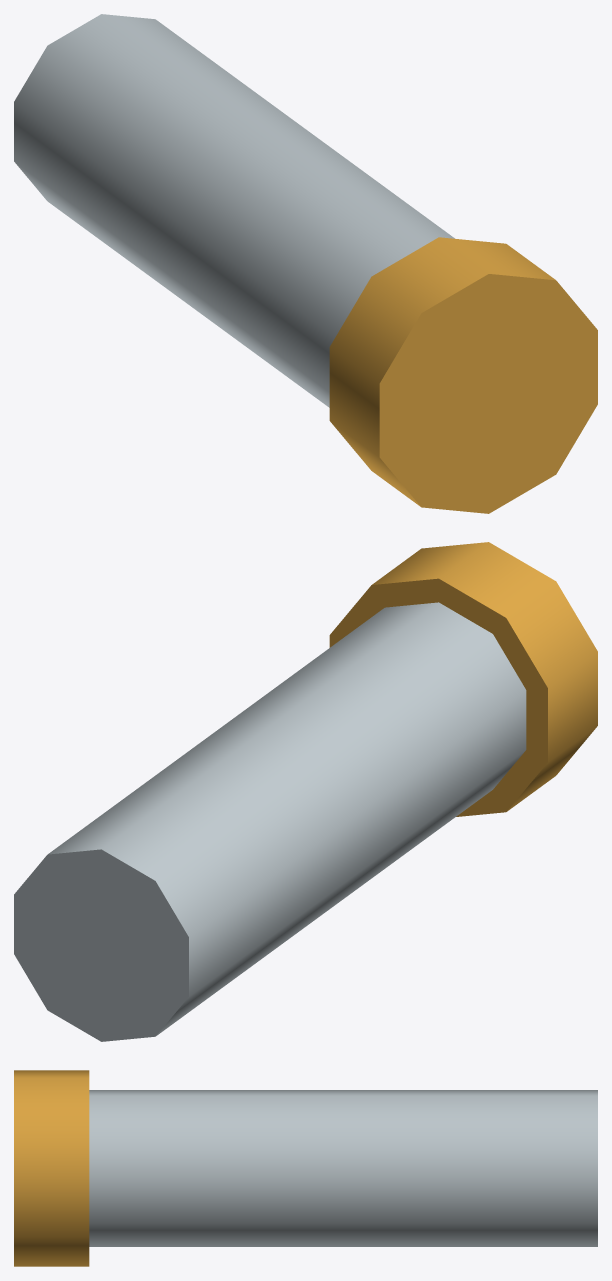
Rendered from perseverance_sampling.tube_storage.tube_12.glb.
3 renders of one model, top to bottom at view 1: azimuth 30°, elevation 25°; view 2: azimuth 150°, elevation 25°; view 3: azimuth 270°, elevation 25°, orthographic. The views are drawn at different scales.
Parts seen in each view (by area): view 1: perseverance_sampling.tube_storage.tube_12.mesh_Satin_alumin, perseverance_sampling.tube_storage.tube_12.mesh_Gold_thermal; view 2: perseverance_sampling.tube_storage.tube_12.mesh_Satin_alumin, perseverance_sampling.tube_storage.tube_12.mesh_Gold_thermal; view 3: perseverance_sampling.tube_storage.tube_12.mesh_Satin_alumin, perseverance_sampling.tube_storage.tube_12.mesh_Gold_thermal.
Boxes of the visible parts, x1,y1,x2,y2 form: perseverance_sampling.tube_storage.tube_12.mesh_Satin_alumin: [14, 14, 454, 407]; perseverance_sampling.tube_storage.tube_12.mesh_Gold_thermal: [329, 237, 597, 513]; perseverance_sampling.tube_storage.tube_12.mesh_Satin_alumin: [14, 602, 526, 1041]; perseverance_sampling.tube_storage.tube_12.mesh_Gold_thermal: [329, 542, 597, 816]; perseverance_sampling.tube_storage.tube_12.mesh_Satin_alumin: [89, 1090, 597, 1246]; perseverance_sampling.tube_storage.tube_12.mesh_Gold_thermal: [14, 1070, 89, 1266].
Size of the model in its own units: 0.0202 by 0.0212 by 0.062.
